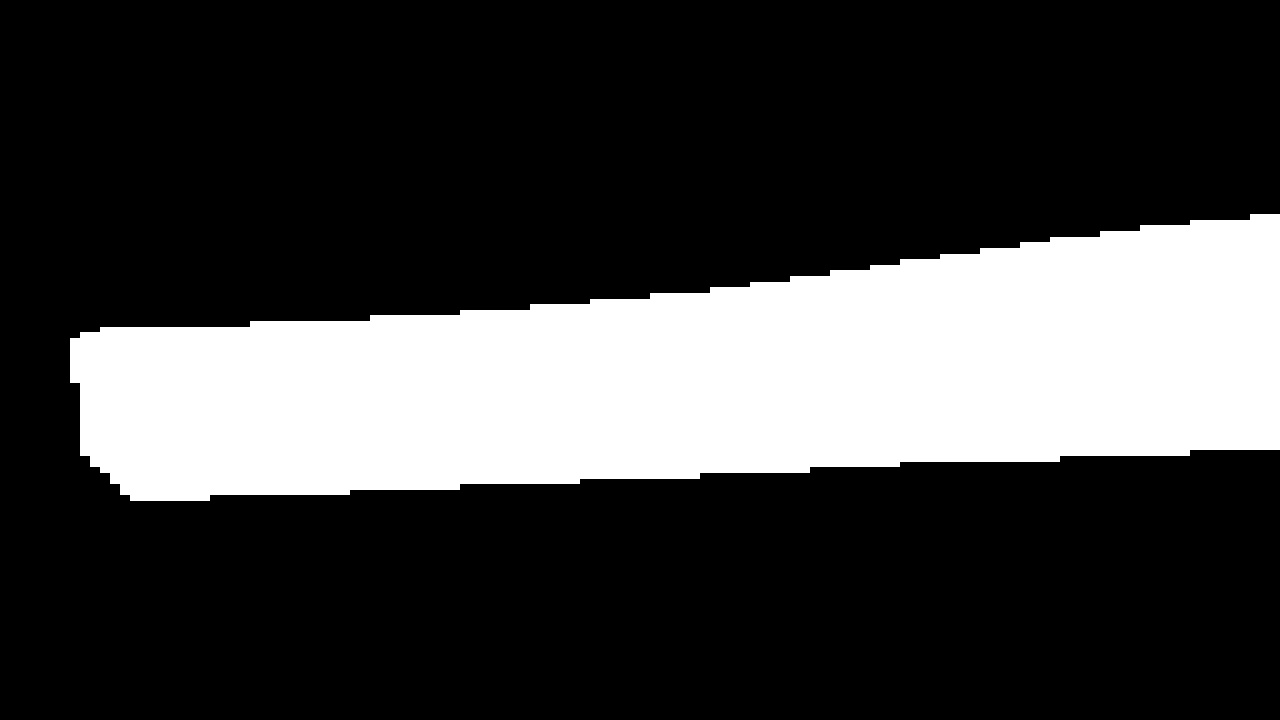Turbine: (59, 192, 1277, 536)
